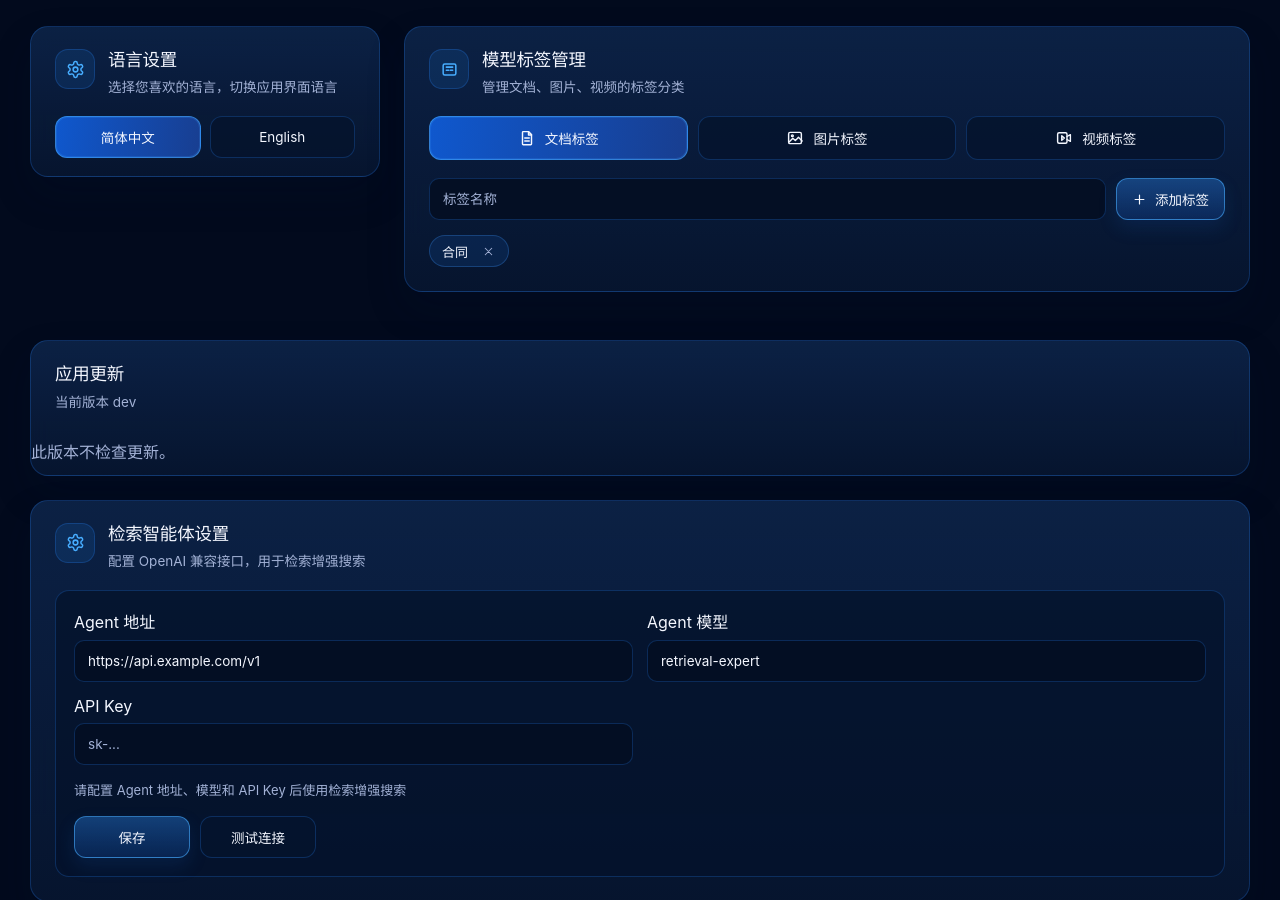
Test: SettingsPage › loads backend labels and adds a document label
Check: the text "合同" is shown, box [442,242,468,261]
Type "合同文件" into the field labelled "标签名称".
click(768, 199); type("合同文件")  # box [429,178,1106,220]
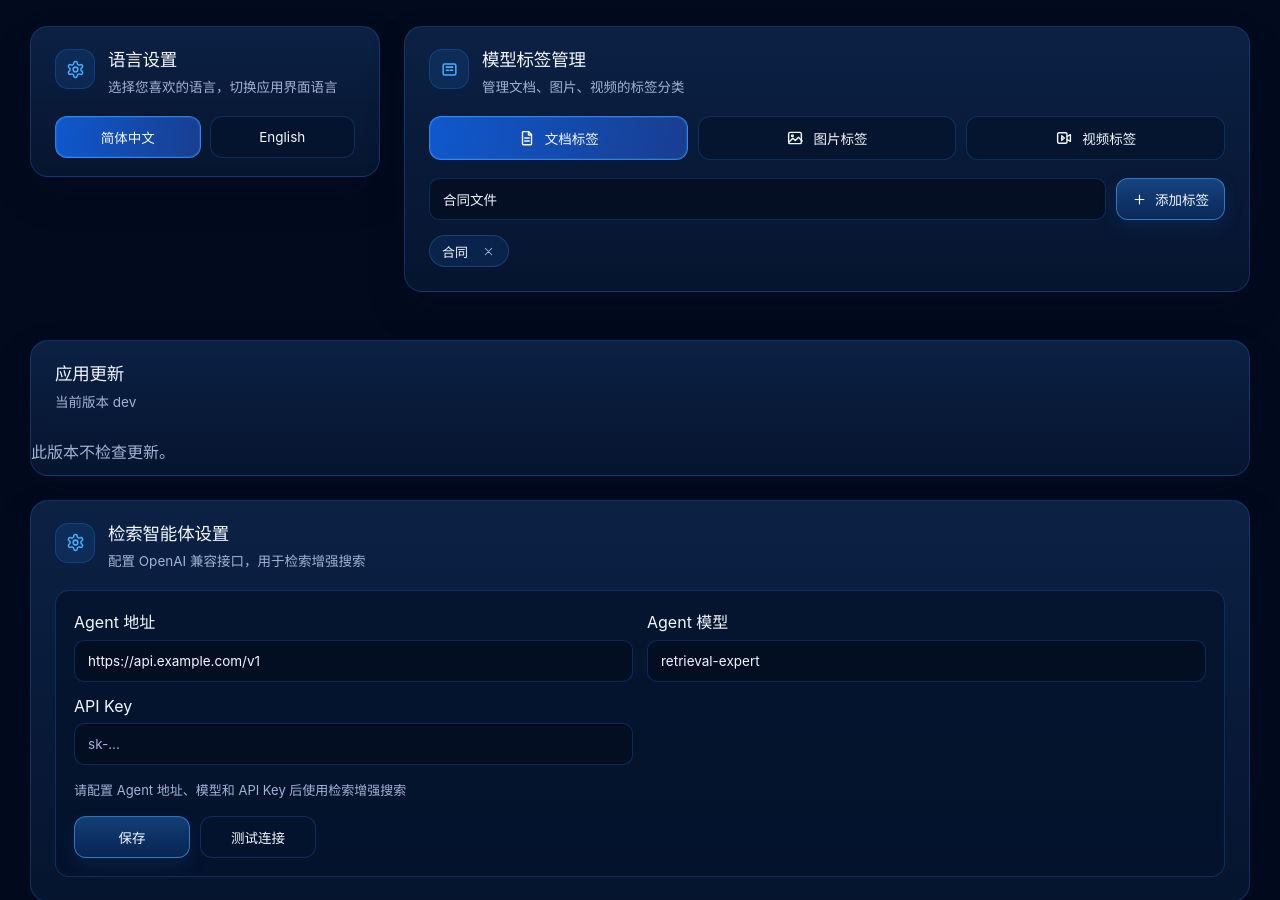
Click the button "添加标签".
click(1170, 199)  # box [1116,178,1225,220]
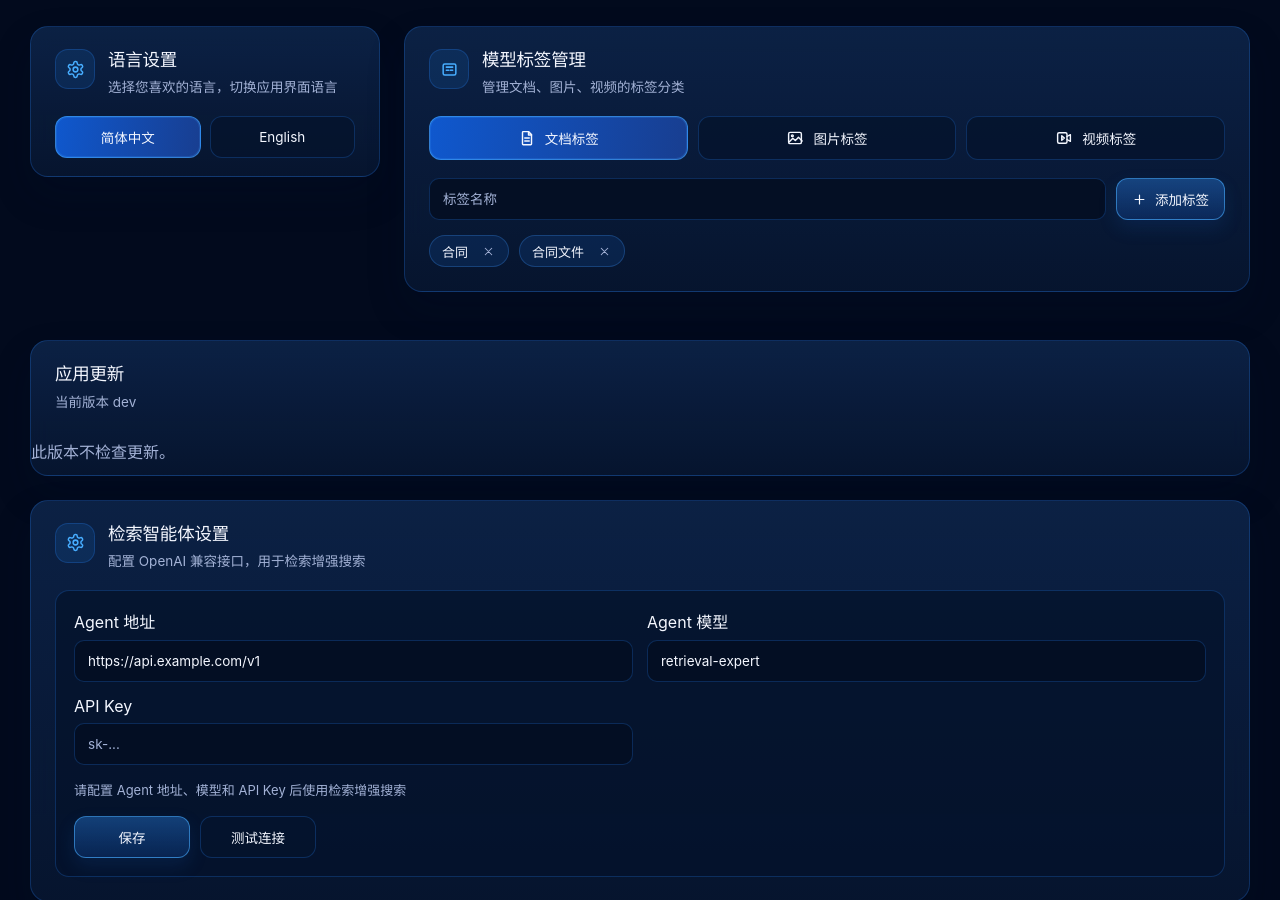
Check: the text "合同文件" is shown, box [532,242,584,261]
